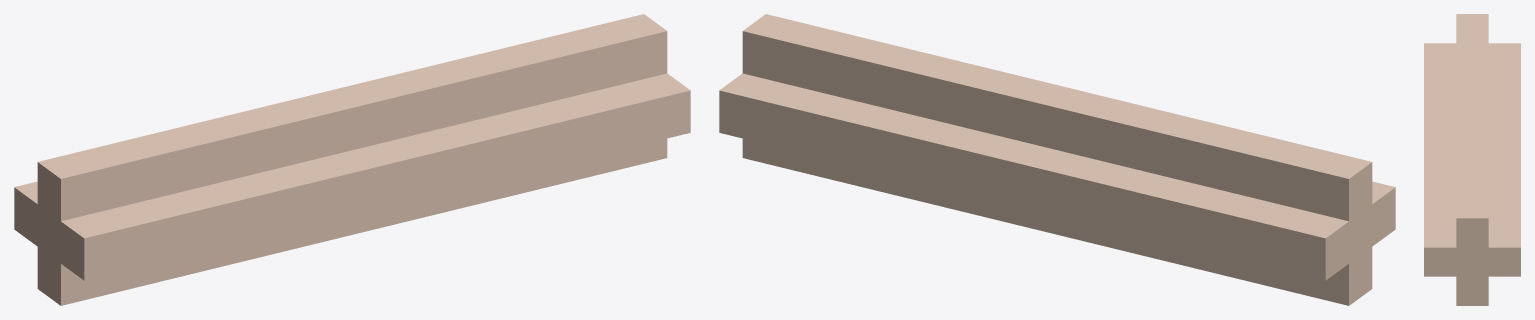
File: greek_wall_divider_2.fbx
3 renders of one model, left to right at view 1: azimuth 30°, elevation 25°; view 2: azimuth 150°, elevation 25°; view 3: azimuth 270°, elevation 25°, orthographic. The views are drawn at different scales.
Parts seen in each view (by area): view 1: Cube.024; view 2: Cube.024; view 3: Cube.024.
Boxes of the visible parts, left/top/right/bottom form: Cube.024: left=14, top=14, right=690, bottom=305; Cube.024: left=719, top=14, right=1395, bottom=305; Cube.024: left=1424, top=14, right=1520, bottom=305.
Size of the model in its own units: 300 by 60 by 60.
